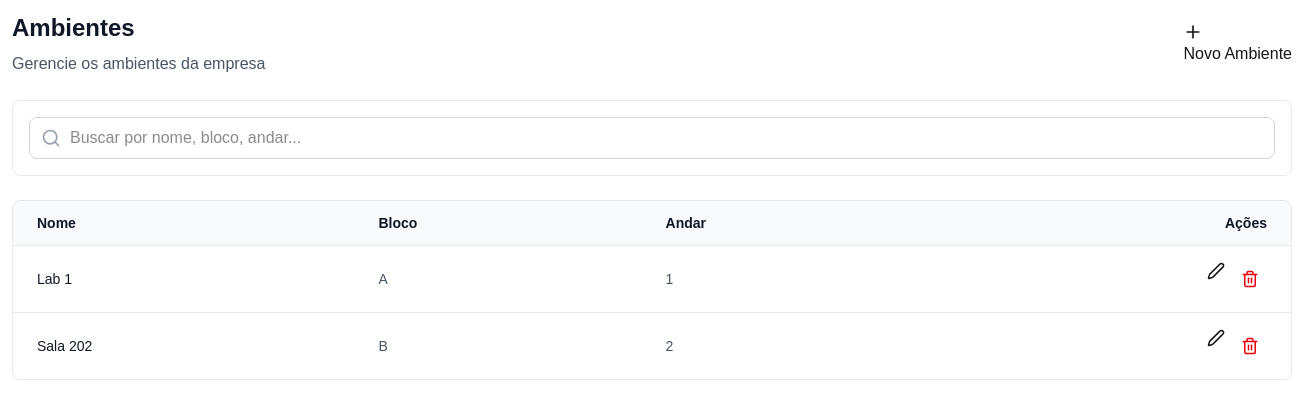
Test: AmbientesList › delete com sucesso remove da lista e exibe toast
Check: the text "Lab 1" is shown, box [13, 246, 354, 312]
Click the button without text in the row of "Lab 1" at x=1250, y=279, box [1233, 262, 1267, 296]
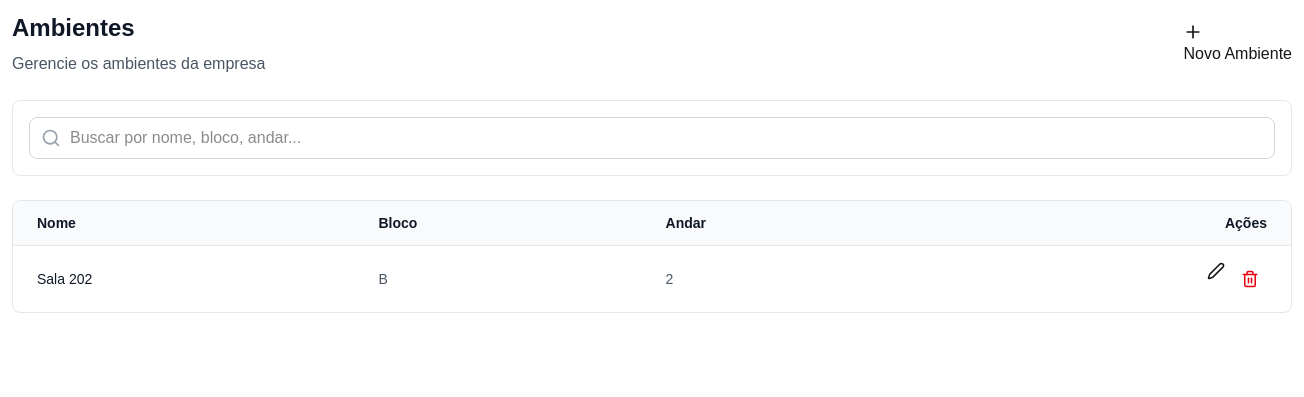
Check: the text "Lab 1" is gone
